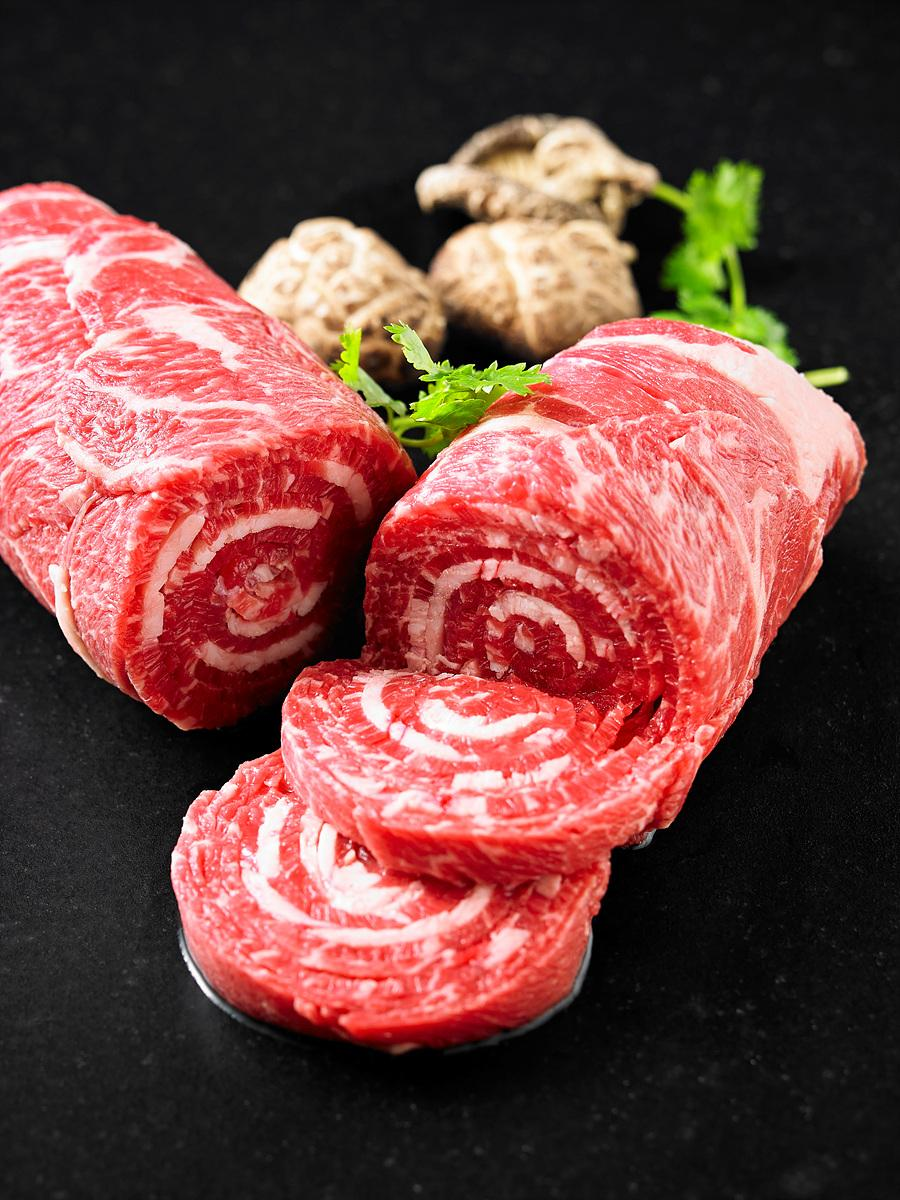beef: (180, 739, 465, 1200), (602, 891, 900, 1200)
